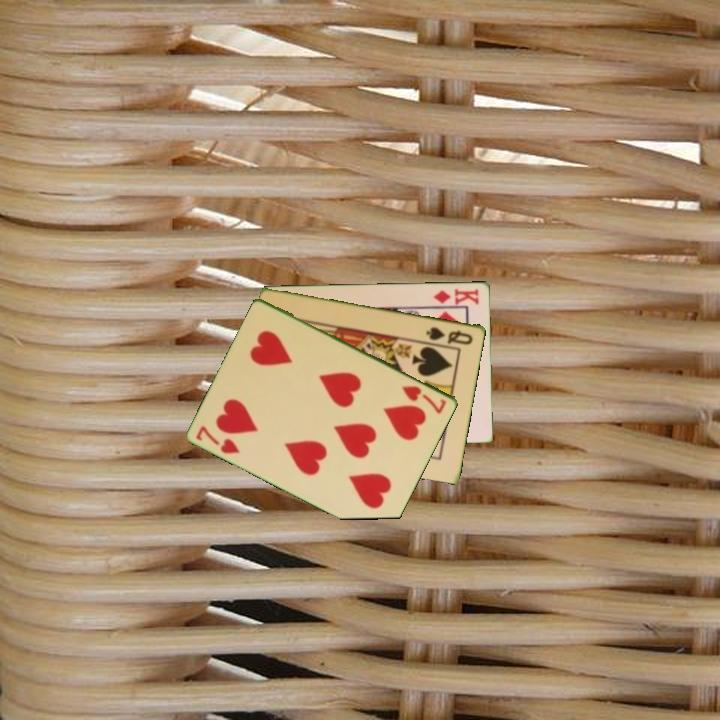7h: (398, 382, 449, 417), (193, 422, 243, 457)
Kd: (430, 285, 482, 308)
Qs: (423, 323, 476, 347)
